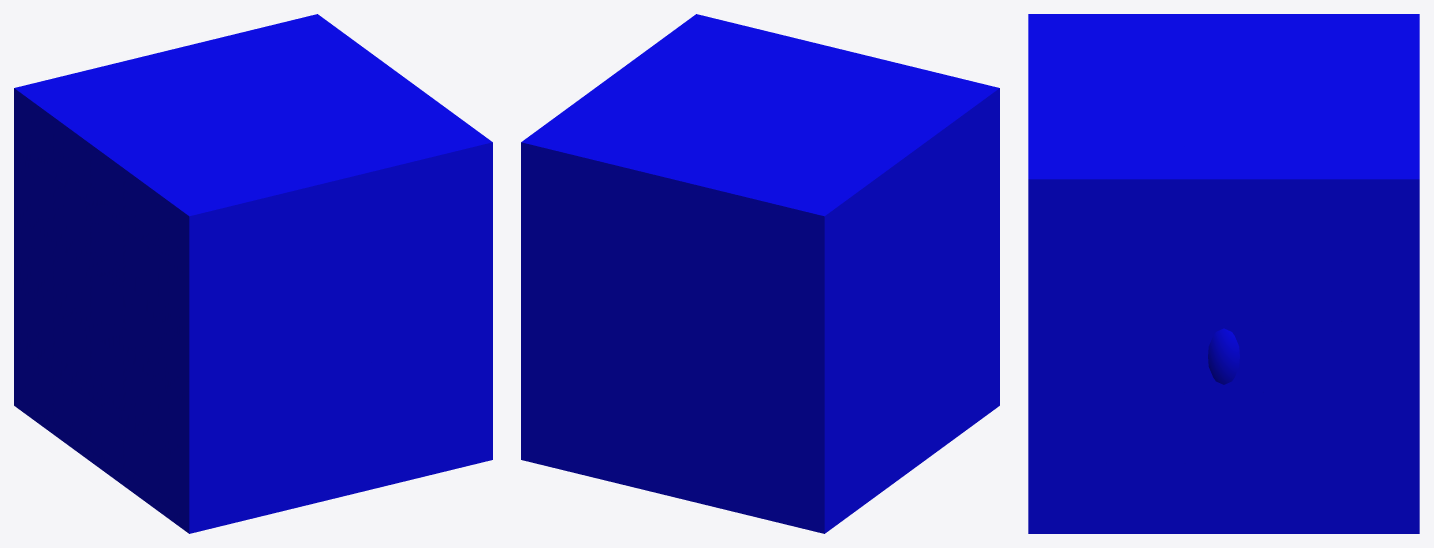
The picture shows the model from 3 angles, left to right: view 1: azimuth 30°, elevation 25°; view 2: azimuth 150°, elevation 25°; view 3: azimuth 270°, elevation 25°; orthographic projection. The views are drawn at different scales.
Visible parts, largest first — view 1: 큐브; view 2: 큐브; view 3: 큐브, 고리_1.
Part boxes in pixels (bbox=[...]): 큐브: bbox=[14, 14, 492, 533]; 큐브: bbox=[521, 14, 999, 533]; 큐브: bbox=[1028, 14, 1419, 533]; 고리_1: bbox=[1208, 328, 1239, 384].
Bounding box in the file's own units: 0.3 × 0.2957 × 0.2957.
Materials: 4 (2 with a texture image).
